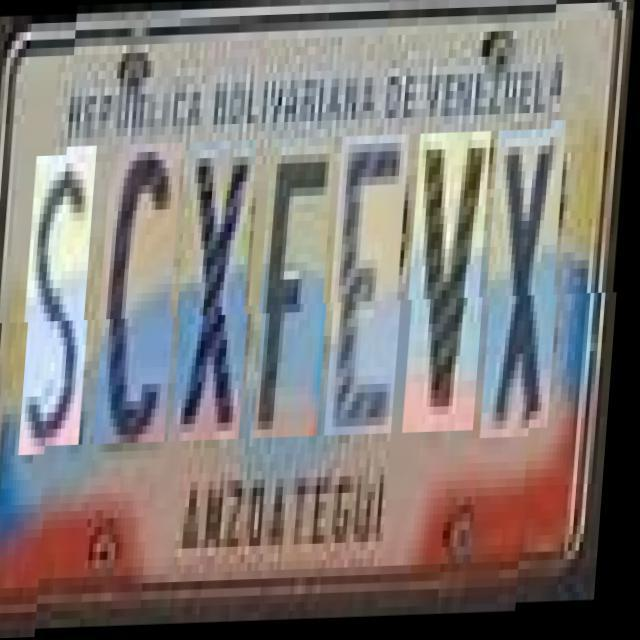C: (100, 144, 188, 445)
E: (331, 137, 415, 438)
F: (260, 139, 341, 440)
S: (26, 146, 103, 447)
V: (409, 135, 497, 436)
X: (487, 133, 572, 442), (178, 142, 262, 442)
